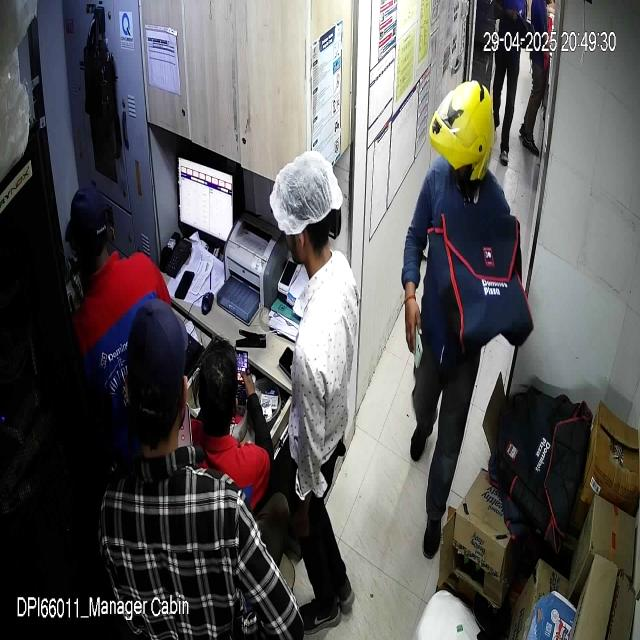helmet: (429, 79, 494, 199)
no_helmet: (126, 298, 190, 461), (268, 151, 344, 281), (199, 334, 238, 436), (65, 186, 108, 275)
